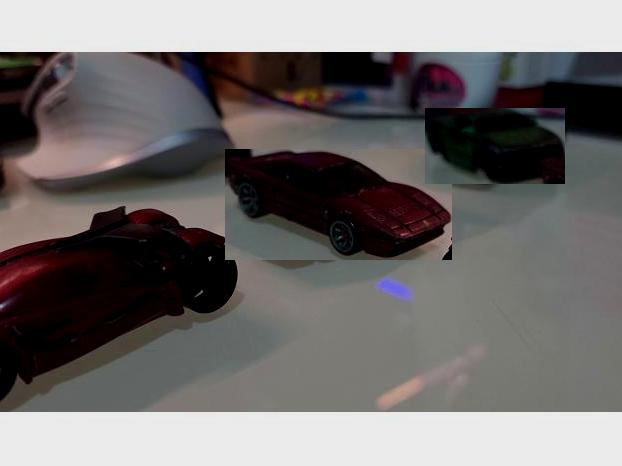toy-car: (0, 204, 237, 407), (225, 150, 452, 261), (426, 108, 566, 184)
